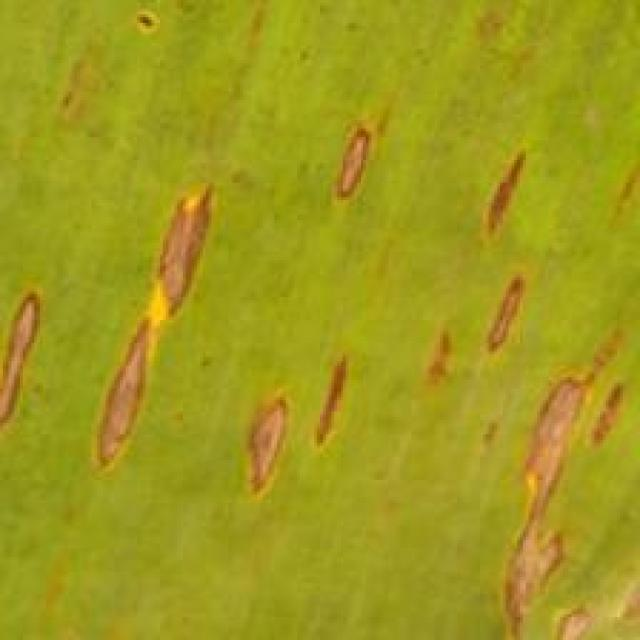Early_leaf_spot: (485, 360, 640, 640), (86, 165, 214, 501), (219, 341, 307, 508), (295, 99, 387, 235), (286, 313, 364, 471), (446, 115, 536, 240), (0, 264, 58, 428), (462, 0, 552, 83), (37, 37, 117, 121), (460, 254, 524, 351), (597, 122, 640, 237), (410, 290, 458, 392), (121, 0, 176, 51)
